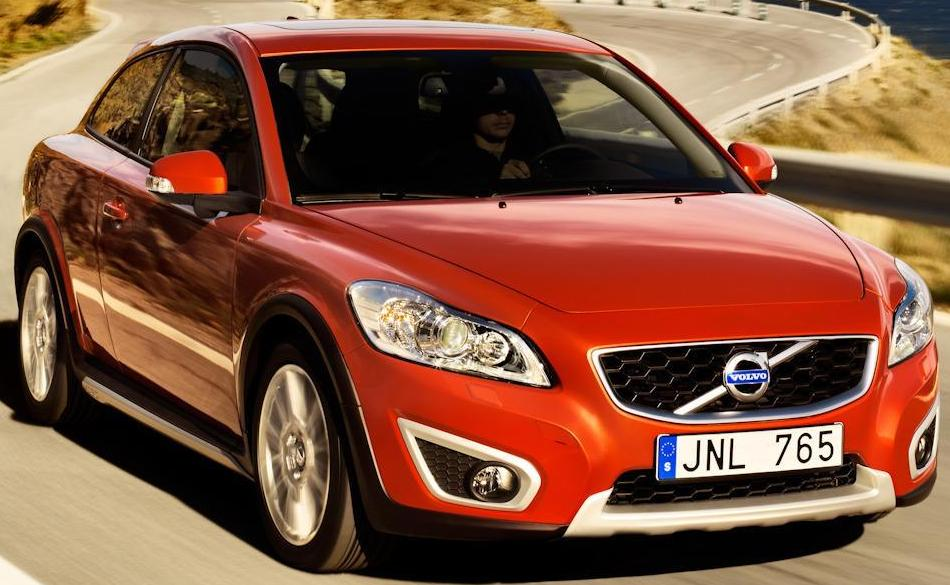front_view: (358, 235, 935, 516)
headlight: (353, 275, 568, 410)
side_glass: (76, 54, 291, 219)
